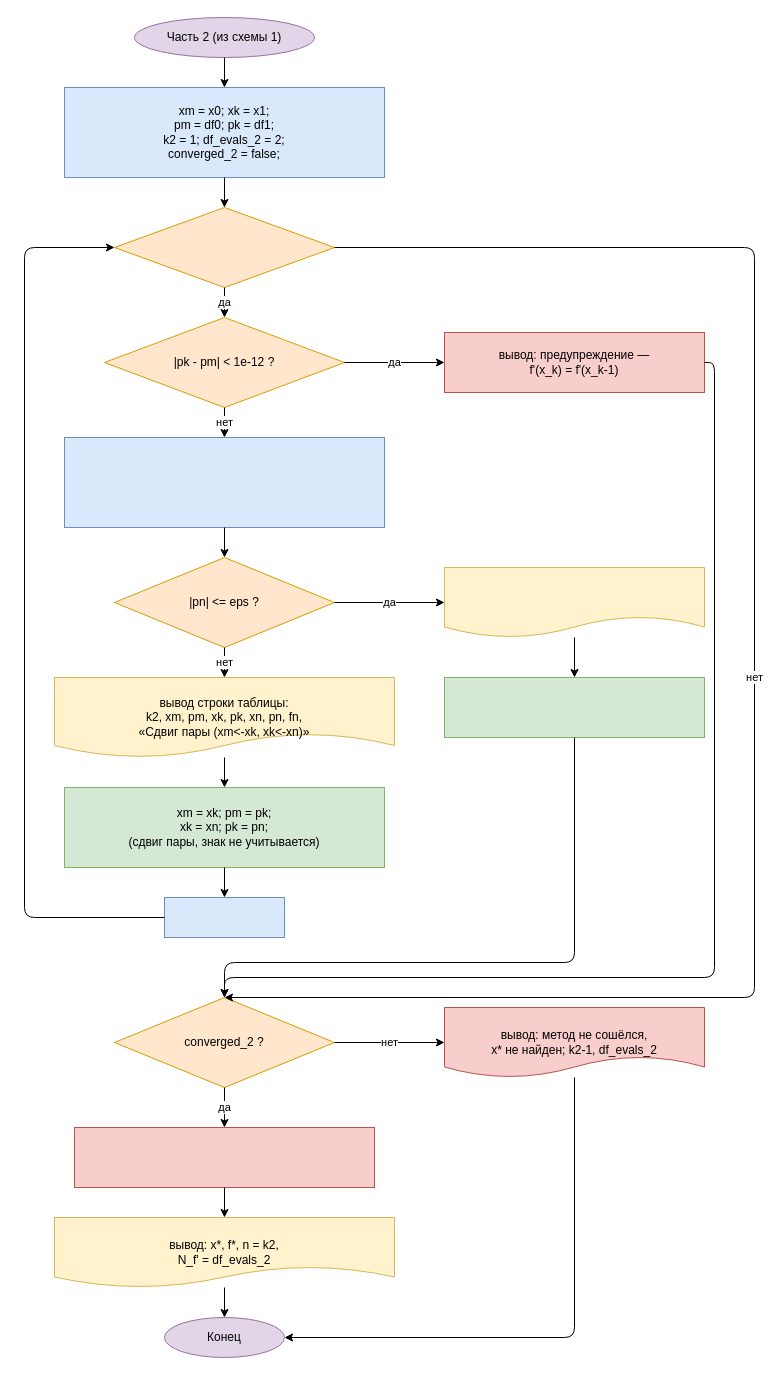
Image size: 780x1375. Some labels were removed from this diagram. Here are the shapes that lost their labels. From the top down, the centre of each, then its label:
At [224,247]: "k2 <= 50 ?".
At [224,482]: "xn = (pk*xm - pm*xk) / (pk - pm); pn = df(xn); df_evals_2++; fn = f(xn);".
At [574,602]: "вывод строки таблицы: СТОП (|f'| <= eps)".
At [574,707]: "x_star_2 = xn; converged_2 = true;".
At [224,917]: "k2++;".
At [224,1157]: "x* = x_star_2; f* = f(x_star_2);".
